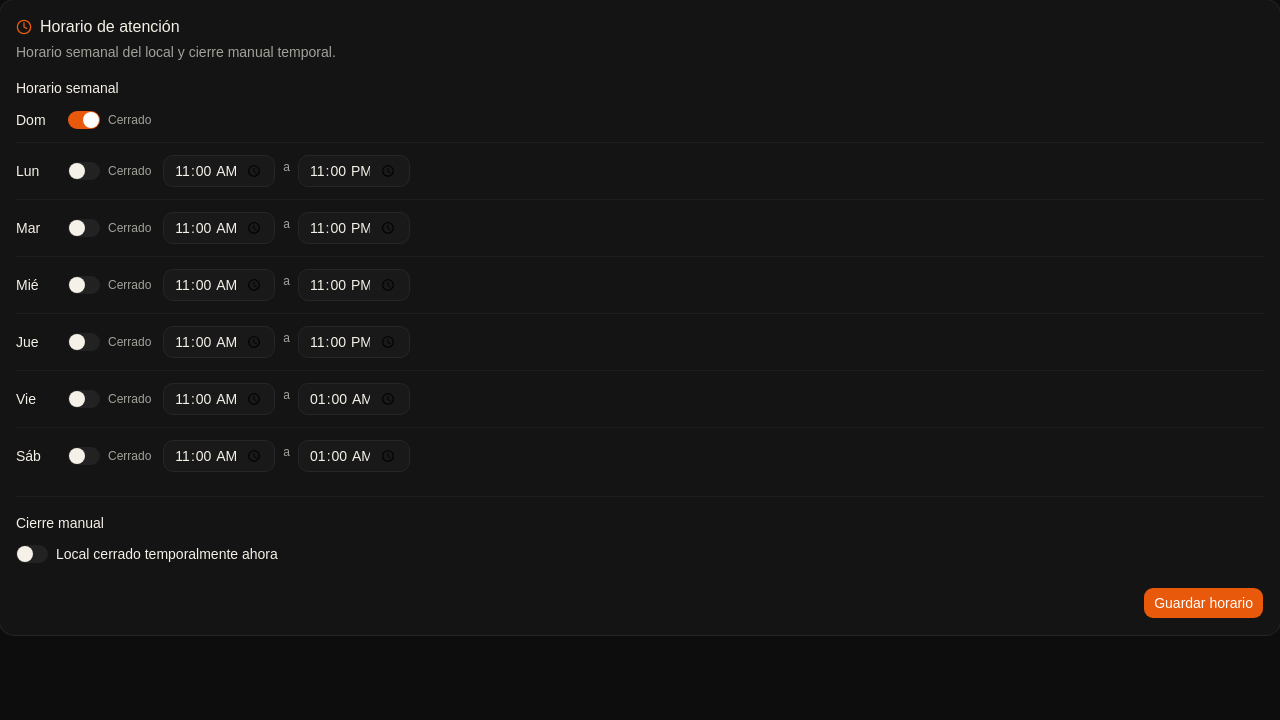
Test: BusinessHoursSettingsCard › activar el switch de cierre manual muestra el campo de motivo
Expected: the field labelled "Motivo" is not shown
Click the switch named "Local cerrado temporalmente ahora".
click(32, 554)  # box x1=16 y1=545 x2=48 y2=563
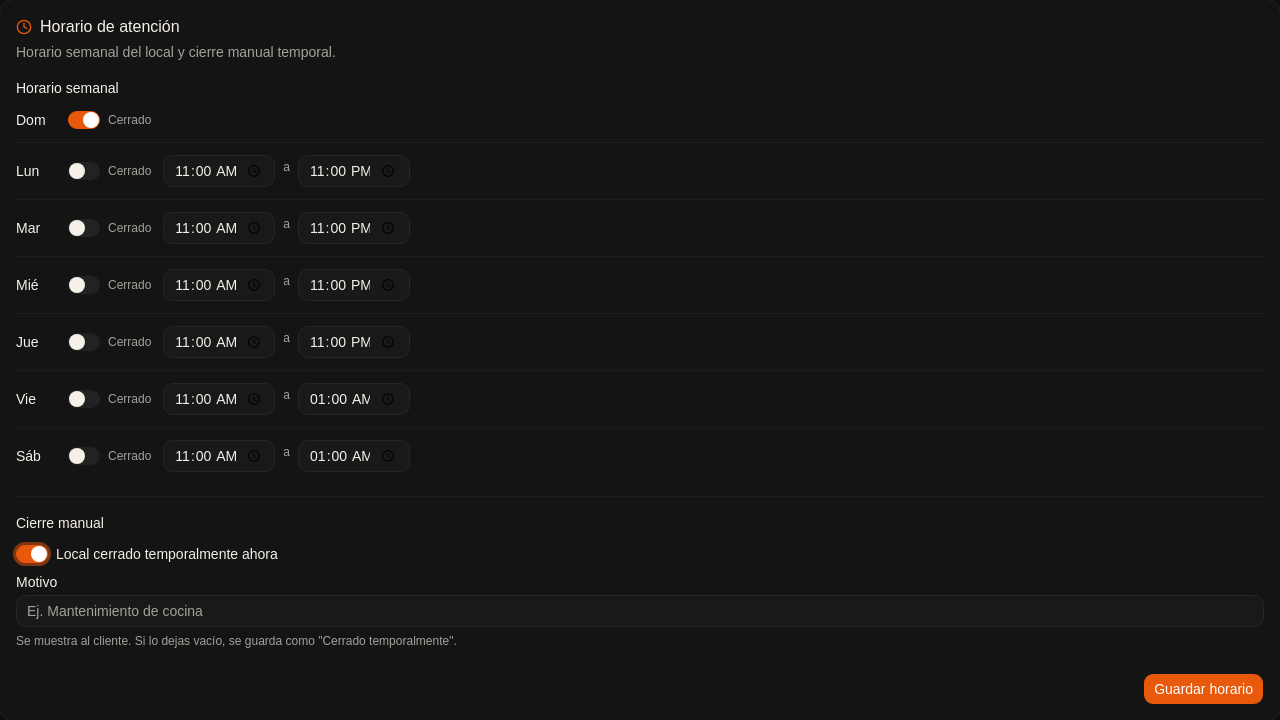
Expected: the field labelled "Motivo" is shown, x1=16 y1=595 x2=1264 y2=627
